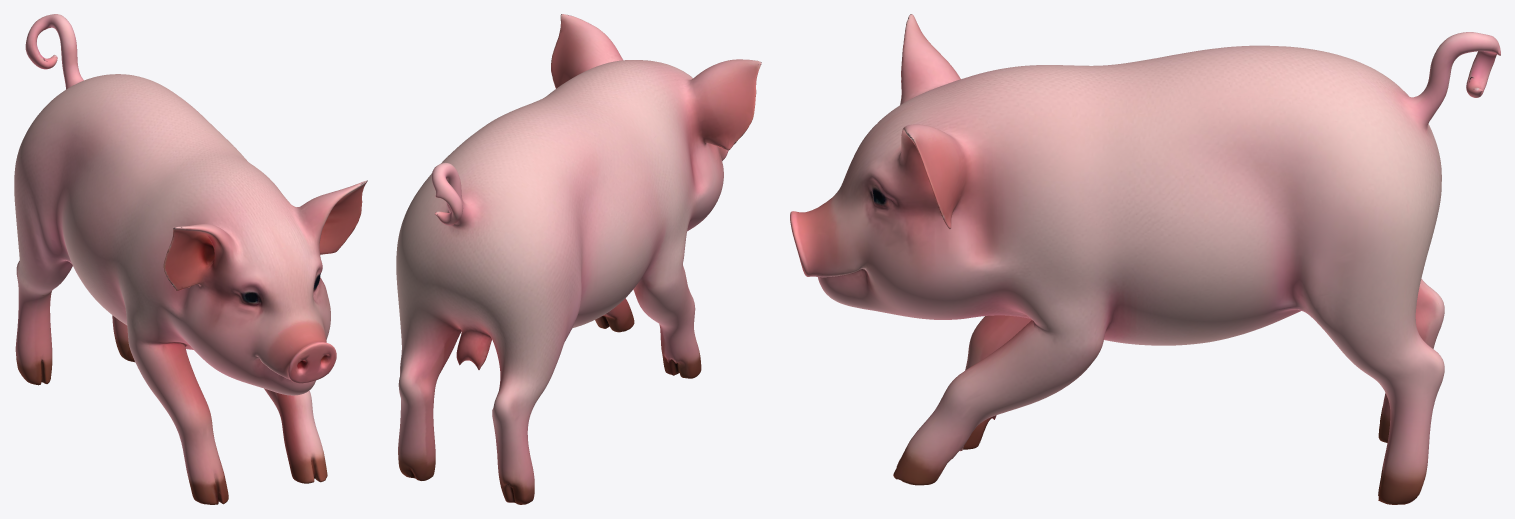
Rendered from pig_trotting.glb.
The picture shows the model from 3 angles, left to right: view 1: azimuth 30°, elevation 25°; view 2: azimuth 150°, elevation 25°; view 3: azimuth 270°, elevation 25°; orthographic projection. The views are drawn at different scales.
Parts seen in each view (by area): view 1: model; view 2: model; view 3: model.
Part boxes in pixels (left/top/right/bottom): model: left=14, top=14, right=367, bottom=504; model: left=396, top=14, right=761, bottom=504; model: left=790, top=14, right=1500, bottom=504.
Size of the model in its own units: 0.7942 by 1.29 by 1.9.
1 material, 1 textured.
